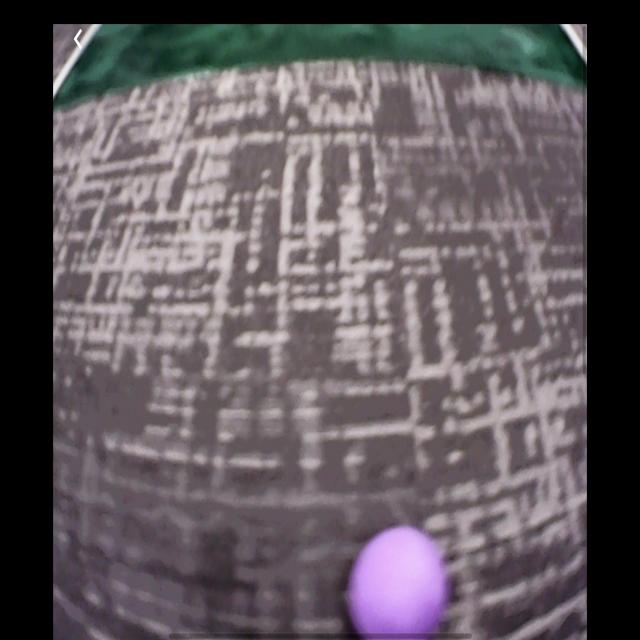ball: (345, 524, 450, 637)
